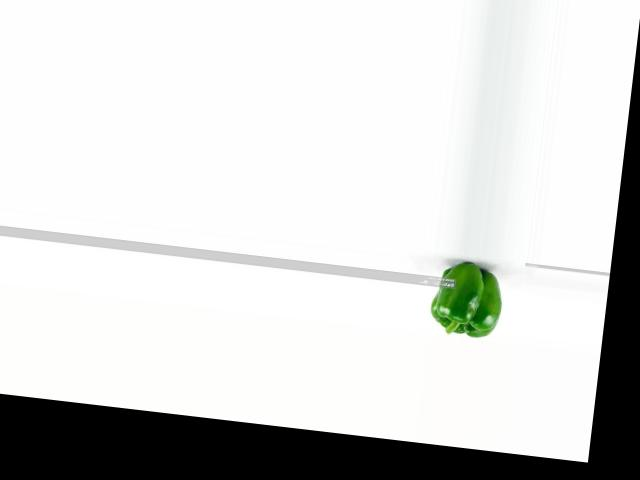bell_pepper: (428, 255, 509, 344)
